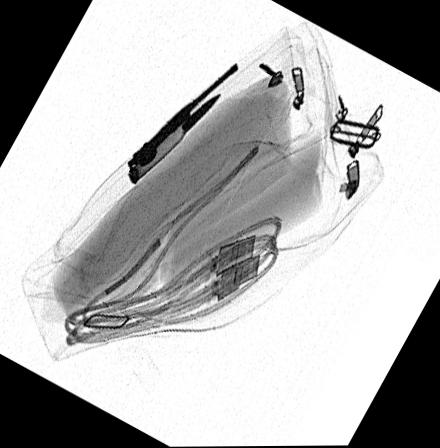Bullet: (127, 91, 225, 186)
Gun: (128, 61, 240, 168)
